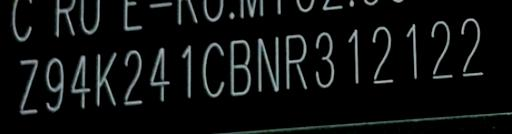letter: (368, 23, 398, 88), (284, 30, 312, 92), (312, 30, 340, 92), (460, 14, 486, 79), (428, 20, 454, 85), (65, 50, 93, 109), (92, 50, 118, 112), (12, 57, 40, 114), (399, 22, 425, 83), (256, 36, 284, 92), (198, 38, 226, 94), (119, 48, 145, 107), (340, 25, 364, 88), (227, 38, 253, 96), (171, 40, 195, 100), (40, 55, 64, 112), (148, 46, 170, 102)
